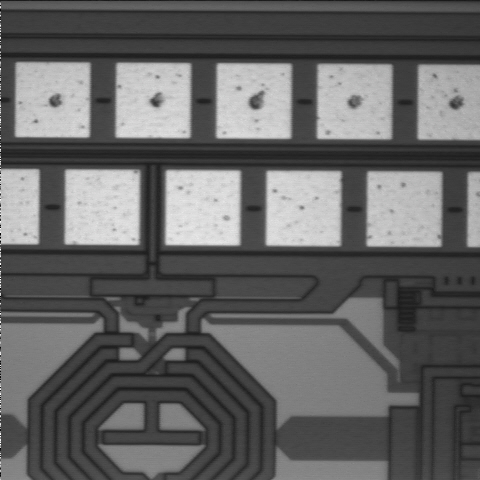pad: (165, 170, 240, 245), (116, 63, 190, 138), (217, 64, 291, 139), (65, 170, 139, 245), (266, 171, 340, 246), (367, 172, 441, 246), (16, 63, 89, 137), (318, 65, 391, 139)
